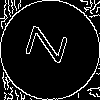Z: (25, 25, 77, 68)
